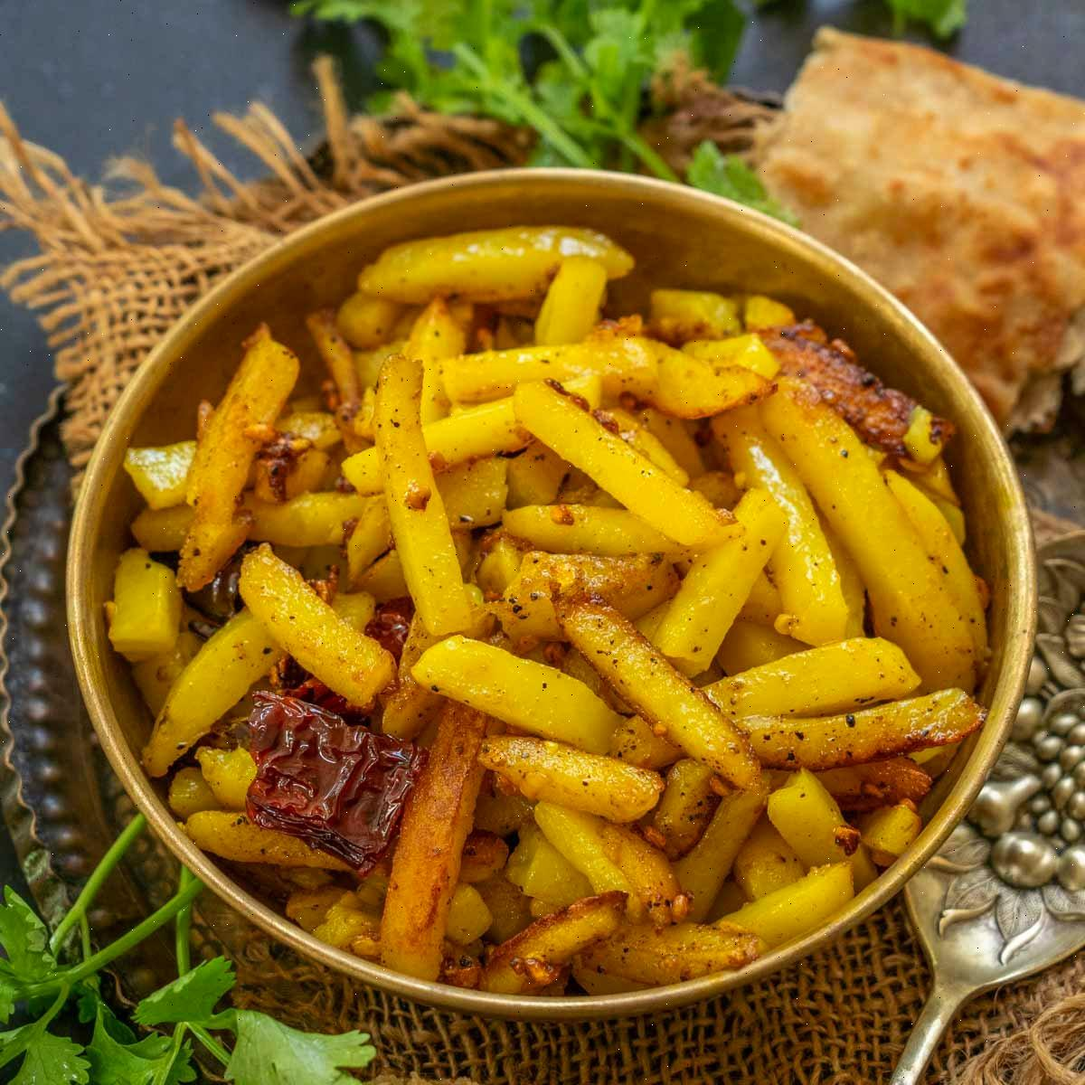aloo sabji: (67, 242, 959, 1019)
roti phulka: (785, 37, 1085, 272)
